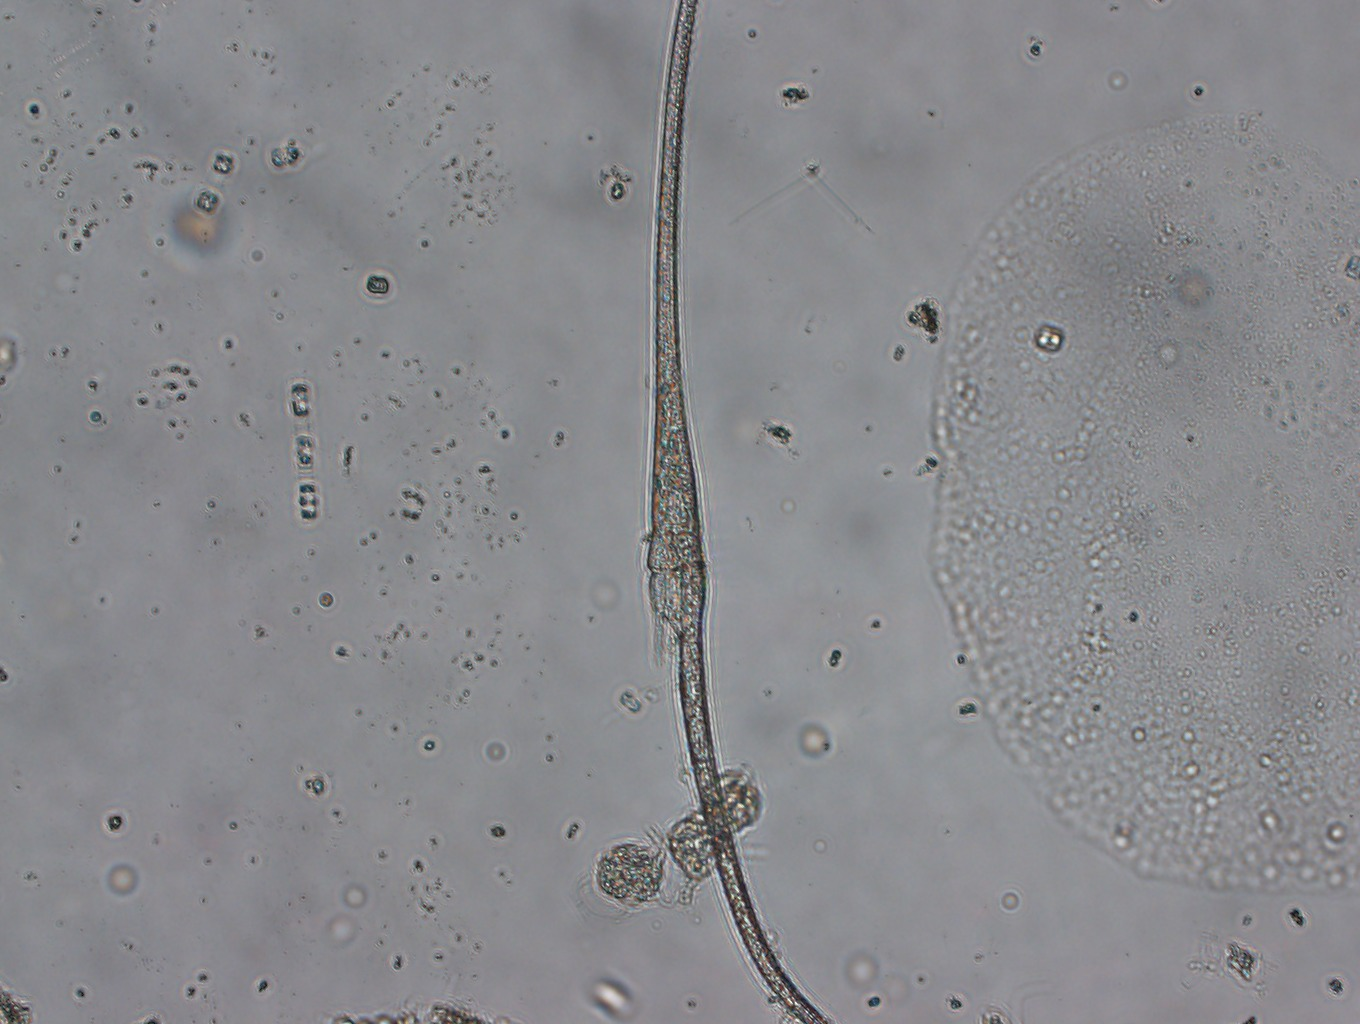ceratium fusus: (642, 1, 827, 1024)
skeletonema: (289, 381, 318, 520)
